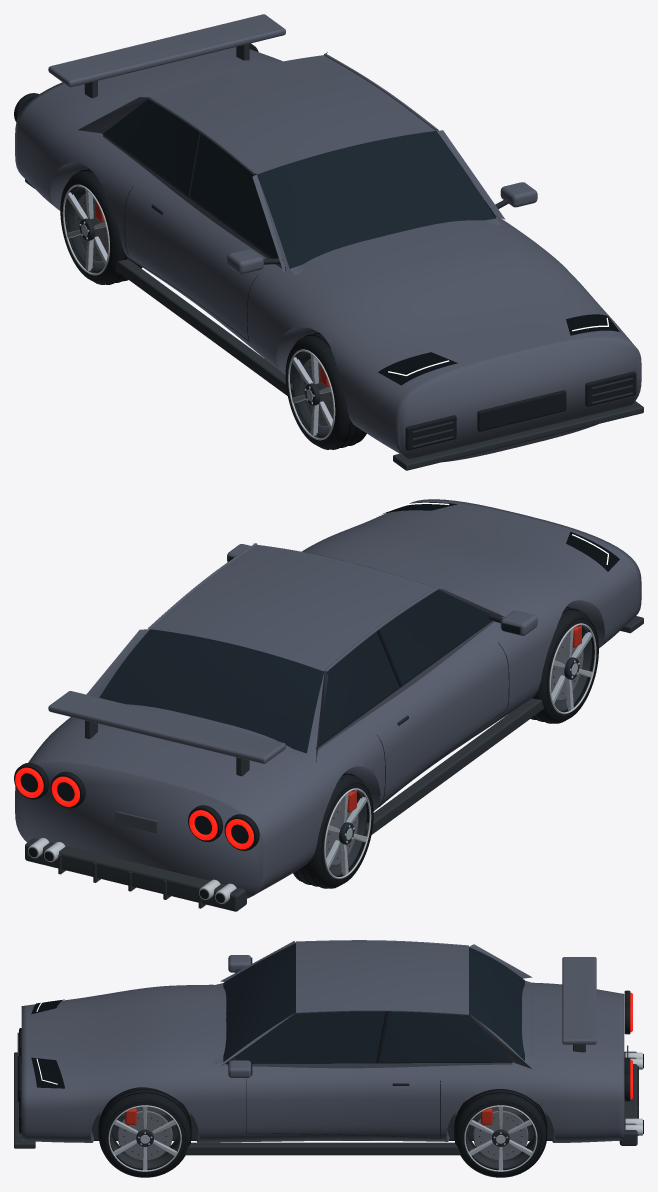
The model's file is gtr.glb.
The picture shows the model from 3 angles, top to bottom: view 1: azimuth 30°, elevation 25°; view 2: azimuth 150°, elevation 25°; view 3: azimuth 270°, elevation 25°; orthographic projection. The views are drawn at different scales.
Visible parts, largest first — view 1: Body_SculptedQuadShell, Web_Chassis_Rig_gtr_Exterior_NewPaint, Web_Chassis_Rig_V6_Detail_Glass, Web_Chassis_Rig_Graphite metal, Web_Chassis_Rig_Rubber, Web_Wheel_FR_Rubber, Web_Wheel_RR_Rubber, Web_Chassis_Rig_V6 Smoked lamp polymer, Web_Wheel_RR_V6 Forged alloy, Web_Wheel_FR_V6 Forged alloy, Web_Chassis_Rig_V6 Rubber, Web_Wheel_RR_Graphite metal (+3 smaller); view 2: Body_SculptedQuadShell, Web_Chassis_Rig_gtr_Exterior_NewPaint, Web_Chassis_Rig_V6_Detail_Glass, Web_Chassis_Rig_Graphite metal, Web_Chassis_Rig_Rubber, Web_Wheel_RR_Rubber, Web_Wheel_FR_Rubber, Web_Chassis_Rig_Red LED, Web_Chassis_Rig_V6 Smoked lamp polymer, Web_Wheel_FR_V6 Forged alloy, Web_Wheel_RR_V6 Forged alloy, Web_Chassis_Rig_V6 Rubber (+5 smaller); view 3: Body_SculptedQuadShell, Web_Chassis_Rig_V6_Detail_Glass, Web_Chassis_Rig_gtr_Exterior_NewPaint, Web_Chassis_Rig_Graphite metal, Web_Wheel_FL_Rubber, Web_Wheel_RL_Rubber, Brake rotor.003, Brake rotor.002, Web_Chassis_Rig_Rubber, Web_Chassis_Rig_V6 Smoked lamp polymer, Web_Chassis_Rig_V6 Rubber, Web_Wheel_RL_V6 Forged alloy (+8 smaller).
Boxes of the visible parts, left/top/right/bottom form: Body_SculptedQuadShell: left=15, top=47, right=641, bottom=462; Web_Chassis_Rig_gtr_Exterior_NewPaint: left=48, top=14, right=537, bottom=275; Web_Chassis_Rig_V6_Detail_Glass: left=104, top=99, right=495, bottom=268; Web_Chassis_Rig_Graphite metal: left=25, top=43, right=643, bottom=470; Web_Chassis_Rig_Rubber: left=14, top=43, right=636, bottom=450; Web_Wheel_FR_Rubber: left=285, top=333, right=366, bottom=449; Web_Wheel_RR_Rubber: left=60, top=169, right=142, bottom=284; Web_Chassis_Rig_V6 Smoked lamp polymer: left=378, top=314, right=619, bottom=385; Web_Wheel_RR_V6 Forged alloy: left=66, top=189, right=107, bottom=271; Web_Wheel_FR_V6 Forged alloy: left=292, top=354, right=332, bottom=435; Web_Chassis_Rig_V6 Rubber: left=102, top=131, right=496, bottom=341; Web_Wheel_RR_Graphite metal: left=67, top=186, right=104, bottom=273; Body_SculptedQuadShell: left=15, top=499, right=641, bottom=898; Web_Chassis_Rig_gtr_Exterior_NewPaint: left=48, top=543, right=537, bottom=763; Web_Chassis_Rig_V6_Detail_Glass: left=99, top=548, right=520, bottom=753; Web_Chassis_Rig_Graphite metal: left=25, top=616, right=643, bottom=911; Web_Chassis_Rig_Rubber: left=14, top=763, right=259, bottom=902; Web_Wheel_RR_Rubber: left=293, top=773, right=373, bottom=888; Web_Wheel_FR_Rubber: left=531, top=607, right=598, bottom=723; Web_Chassis_Rig_Red LED: left=15, top=767, right=253, bottom=849; Web_Chassis_Rig_V6 Smoked lamp polymer: left=382, top=502, right=619, bottom=571; Web_Wheel_FR_V6 Forged alloy: left=551, top=628, right=592, bottom=710; Web_Wheel_RR_V6 Forged alloy: left=326, top=793, right=367, bottom=875; Web_Chassis_Rig_V6 Rubber: left=316, top=620, right=509, bottom=806; Body_SculptedQuadShell: left=21, top=982, right=624, bottom=1142; Web_Chassis_Rig_V6_Detail_Glass: left=223, top=943, right=524, bottom=1075; Web_Chassis_Rig_gtr_Exterior_NewPaint: left=214, top=940, right=596, bottom=1077; Web_Chassis_Rig_Graphite metal: left=14, top=1032, right=638, bottom=1155; Web_Wheel_FL_Rubber: left=99, top=1087, right=190, bottom=1177; Web_Wheel_RL_Rubber: left=455, top=1089, right=546, bottom=1177; Brake rotor.003: left=117, top=1111, right=172, bottom=1160; Brake rotor.002: left=473, top=1111, right=528, bottom=1160; Web_Chassis_Rig_Rubber: left=17, top=990, right=643, bottom=1133; Web_Chassis_Rig_V6 Smoked lamp polymer: left=31, top=999, right=64, bottom=1088; Web_Chassis_Rig_V6 Rubber: left=226, top=1011, right=512, bottom=1138; Web_Wheel_RL_V6 Forged alloy: left=469, top=1106, right=532, bottom=1170.
Size of the model in its own units: 2.13 by 1.37 by 4.92.
